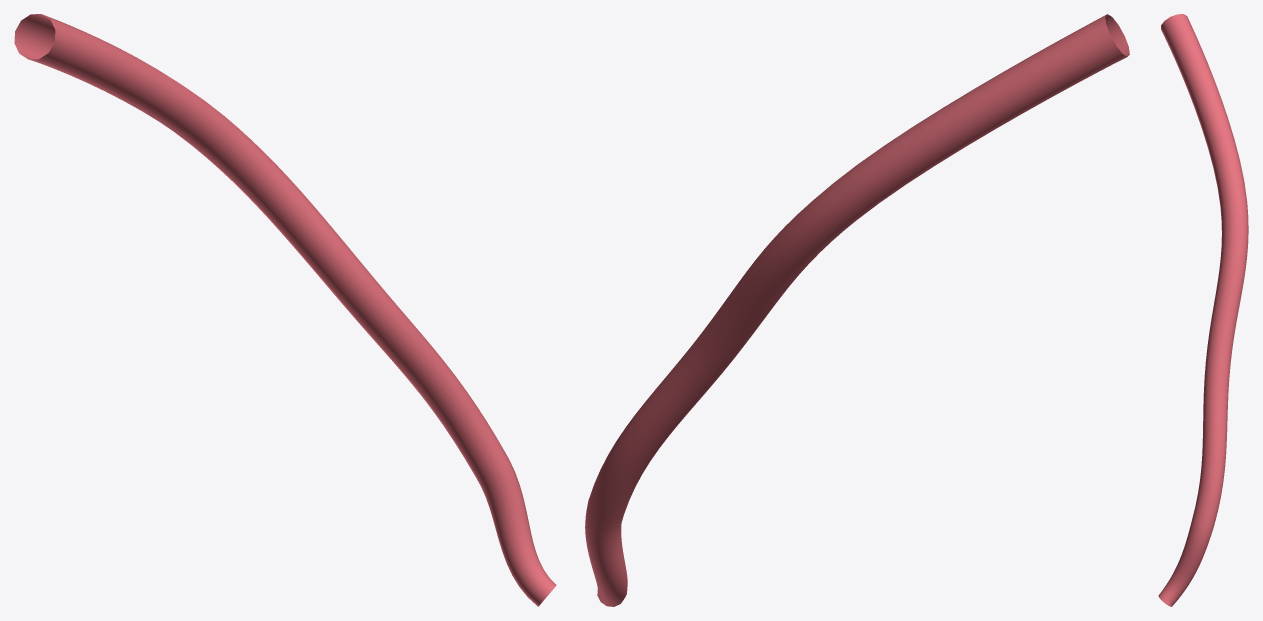
3 views of the same model, side by side, from view 1: azimuth 30°, elevation 25°; view 2: azimuth 150°, elevation 25°; view 3: azimuth 270°, elevation 25° (orthographic). The views are drawn at different scales.
Parts seen in each view (by area): view 1: ZA_337916d85dd207b0; view 2: ZA_337916d85dd207b0; view 3: ZA_337916d85dd207b0.
Part boxes in pixels (x1,y1,x2,y2): ZA_337916d85dd207b0: (14,14,556,606); ZA_337916d85dd207b0: (585,14,1129,606); ZA_337916d85dd207b0: (1158,14,1248,606).
Size of the model in its own units: 0.0387 by 0.0493 by 0.00913.
